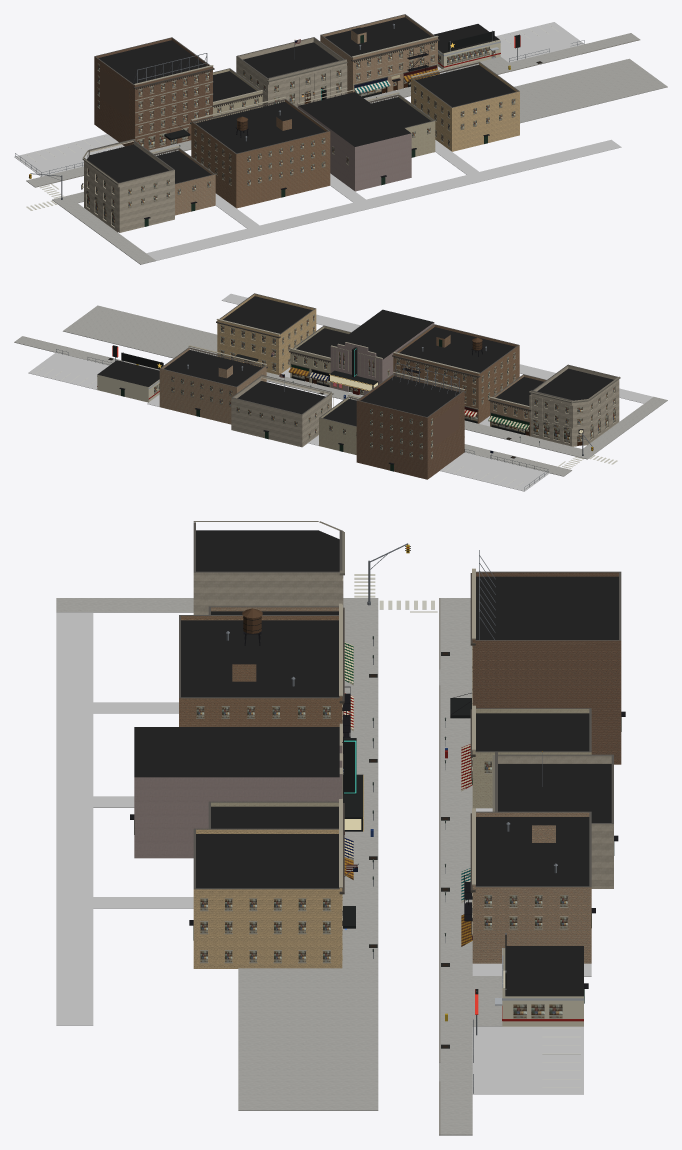
Rendered from downtown.gltf.
The picture shows the model from 3 angles, top to bottom: view 1: azimuth 30°, elevation 25°; view 2: azimuth 150°, elevation 25°; view 3: azimuth 270°, elevation 25°; orthographic projection. The views are drawn at different scales.
Visible parts, largest first — view 1: Paving, Alder, Hotel, Aurora, Police, Bank, RadioBlock, PostOffice, Hardware, Bakery, Diner, Variety (+11 smaller); view 2: Paving, Hotel, Alder, Bank, Police, RadioBlock, PostOffice, Aurora, Diner, Bakery, Hardware, Variety (+7 smaller); view 3: Paving, Hotel, Aurora, Police, Alder, RadioBlock, Bank, PostOffice, Variety, Diner, Bakery, Police_Glass (+3 smaller).
Boxes of the visible parts, x1,y1,x2,y2 form: Paving: (14,22,667,264); Alder: (190,96,330,208); Hotel: (94,37,214,150); Aurora: (297,85,411,191); Police: (409,60,519,151); Bank: (82,139,174,232); RadioBlock: (320,14,439,97); PostOffice: (236,37,347,107); Hardware: (152,146,215,215); Bakery: (366,92,435,157); Diner: (434,24,500,70); Variety: (212,68,264,118); Paving: (14,293,667,491); Hotel: (356,372,465,479); Alder: (392,324,519,423); Bank: (529,364,620,446); Police: (216,293,316,374); RadioBlock: (159,345,267,424); PostOffice: (231,374,333,447); Aurora: (329,309,434,395); Diner: (97,352,163,402); Bakery: (288,325,350,387); Hardware: (488,374,546,436); Variety: (319,394,360,454); Paving: (56,574,591,1135); Hotel: (450,568,625,764); Aurora: (130,723,363,858); Police: (189,826,355,968); Alder: (179,611,353,773); RadioBlock: (461,808,595,963); Bank: (193,521,344,614); PostOffice: (492,752,618,888); Variety: (461,705,591,808); Diner: (495,935,588,1026); Bakery: (208,798,353,879); Police_Glass: (200,899,330,962).
Bounding box in the file's own units: 178 × 22.15 × 76.6.
